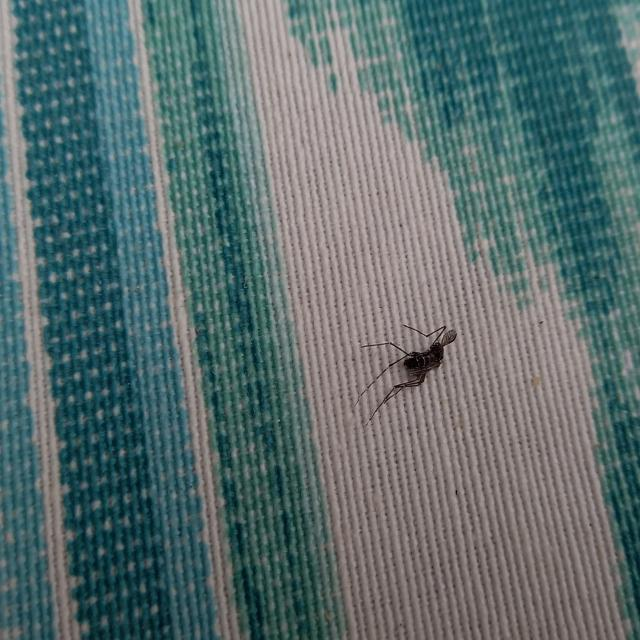albopictus: (355, 310, 461, 428)
